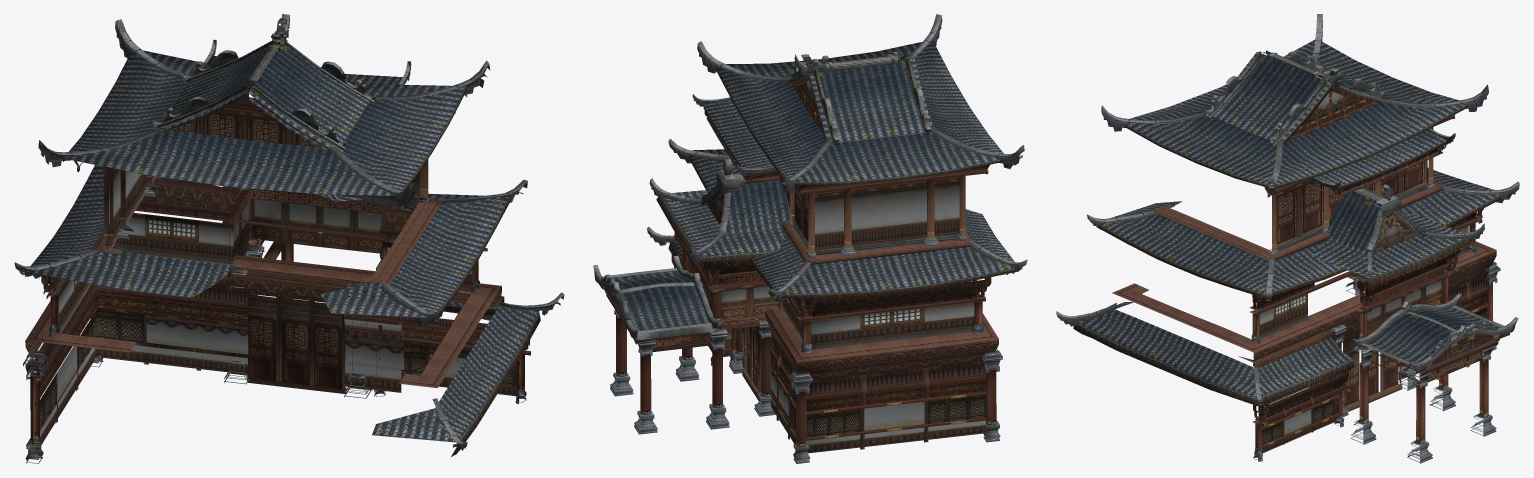
Rendered from S2_Build_XSC080_1_H1.FBX.
3 renders of one model, left to right at view 1: azimuth 30°, elevation 25°; view 2: azimuth 150°, elevation 25°; view 3: azimuth 270°, elevation 25°, orthographic. The views are drawn at different scales.
Parts seen in each view (by area): view 1: S2_Build_XSC080_1_H1; view 2: S2_Build_XSC080_1_H1; view 3: S2_Build_XSC080_1_H1.
Part boxes in pixels (x1=…): S2_Build_XSC080_1_H1: x1=14, y1=14, x2=564, y2=463; S2_Build_XSC080_1_H1: x1=593, y1=14, x2=1027, y2=463; S2_Build_XSC080_1_H1: x1=1056, y1=14, x2=1519, y2=463.
Bounding box in the file's own units: 12508 × 9667 × 12517.
